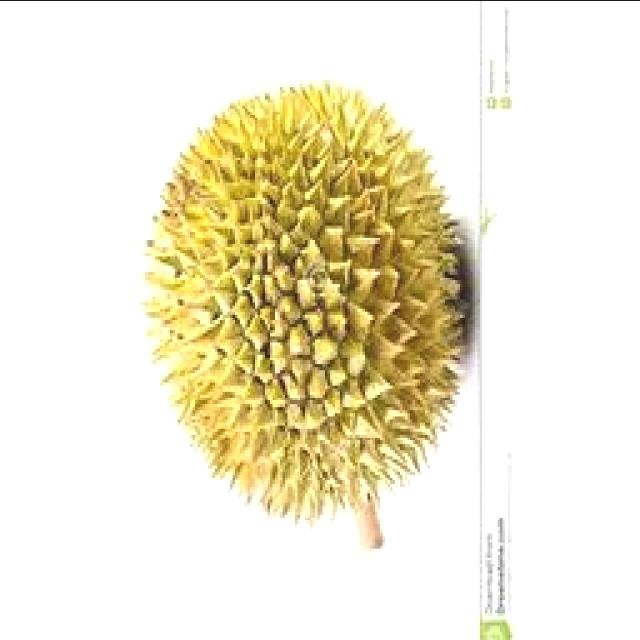agrume: (118, 64, 478, 560)
